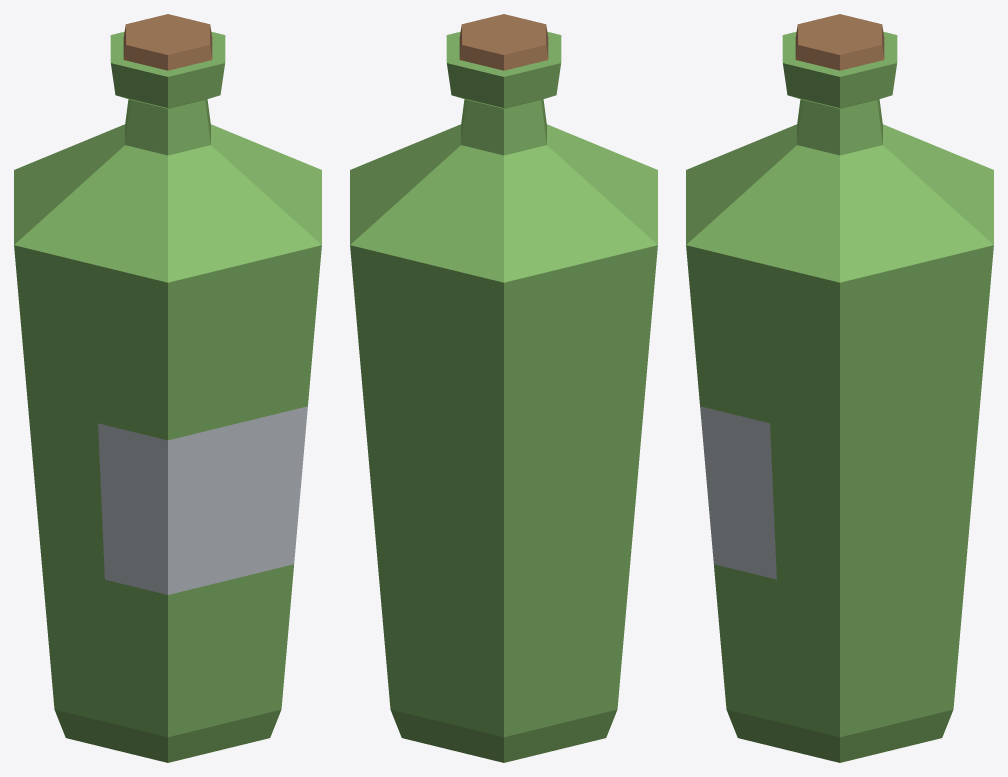
The model's file is Green_Potion_13(Label).fbx.
3 renders of one model, left to right at view 1: azimuth 30°, elevation 25°; view 2: azimuth 150°, elevation 25°; view 3: azimuth 270°, elevation 25°, orthographic.
Visible parts, largest first — view 1: Green_Potion_13(Label); view 2: Green_Potion_13(Label); view 3: Green_Potion_13(Label).
Part boxes in pixels (x1,y1,x2,y2): Green_Potion_13(Label): [14, 14, 321, 762]; Green_Potion_13(Label): [350, 14, 657, 762]; Green_Potion_13(Label): [686, 14, 993, 762].
Bounding box in the file's own units: 17.9 × 37.69 × 15.5.
